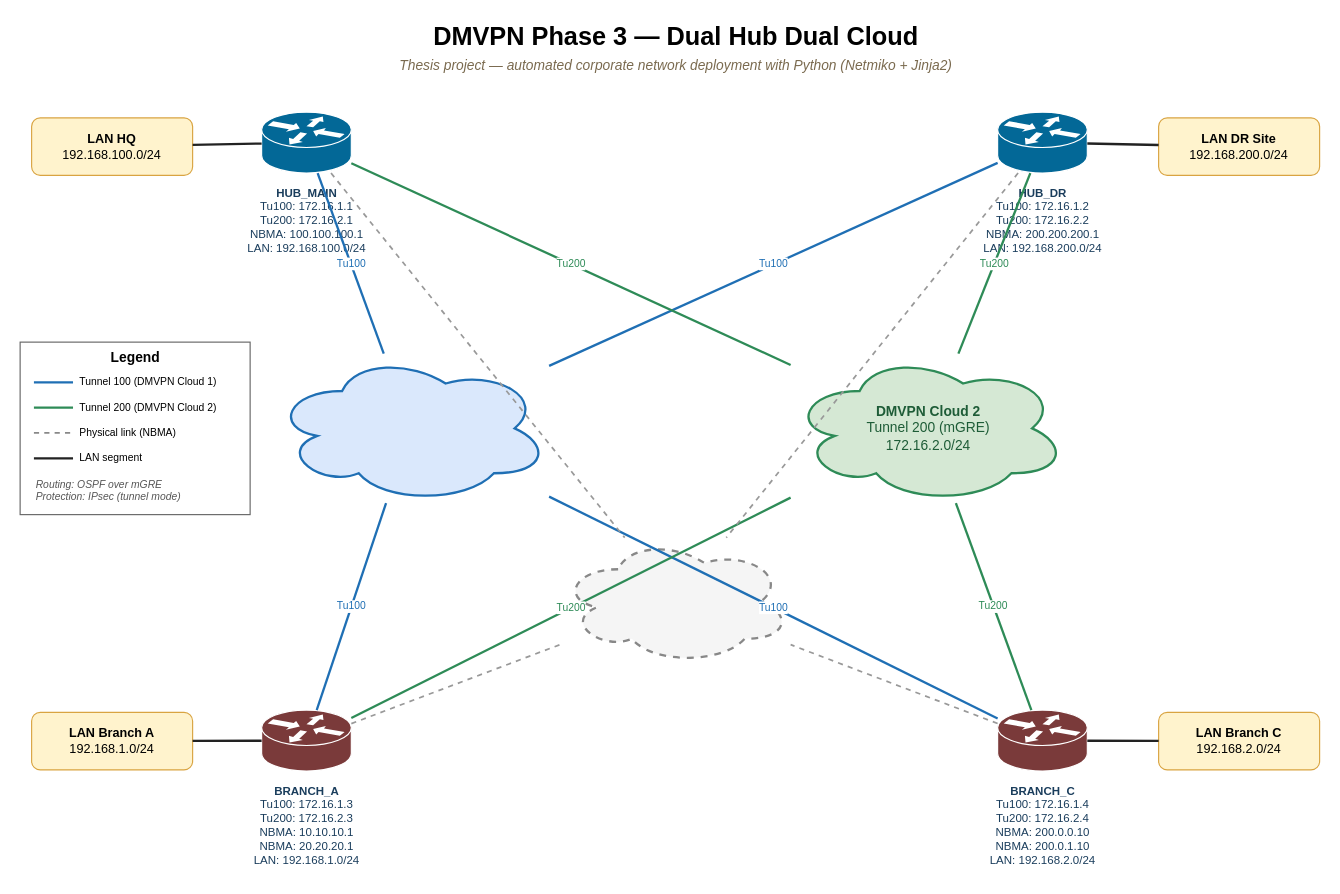
This 1340x894 diagram has some shape labels left out. Each missing label, with the centre of its shape:
DMVPN Cloud 1 Tunnel 100 (mGRE) 172.16.1.0/24: pixel 410 428
Internet / ISP (physical transport): pixel 675 600
